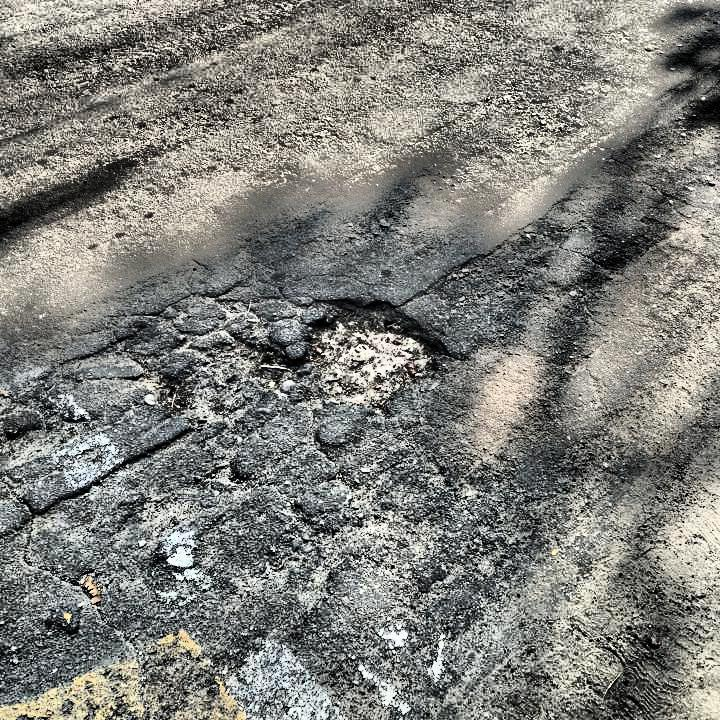pothole: (296, 291, 461, 408)
